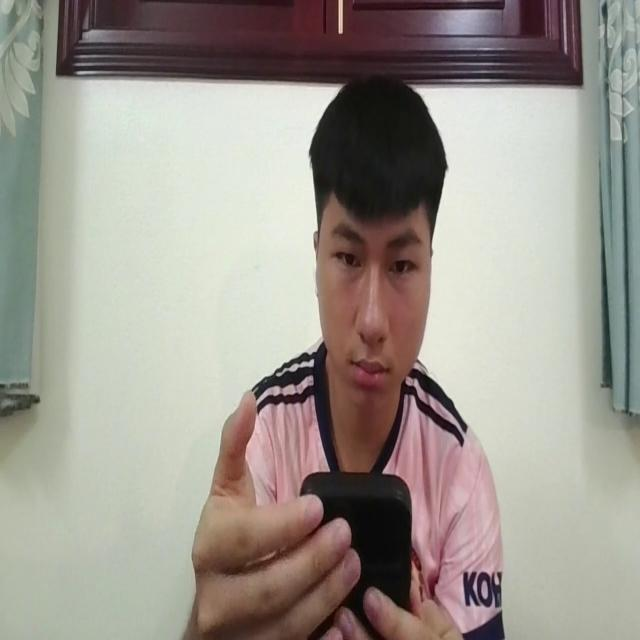phone: (298, 469, 412, 608)
student: (192, 59, 501, 640)
